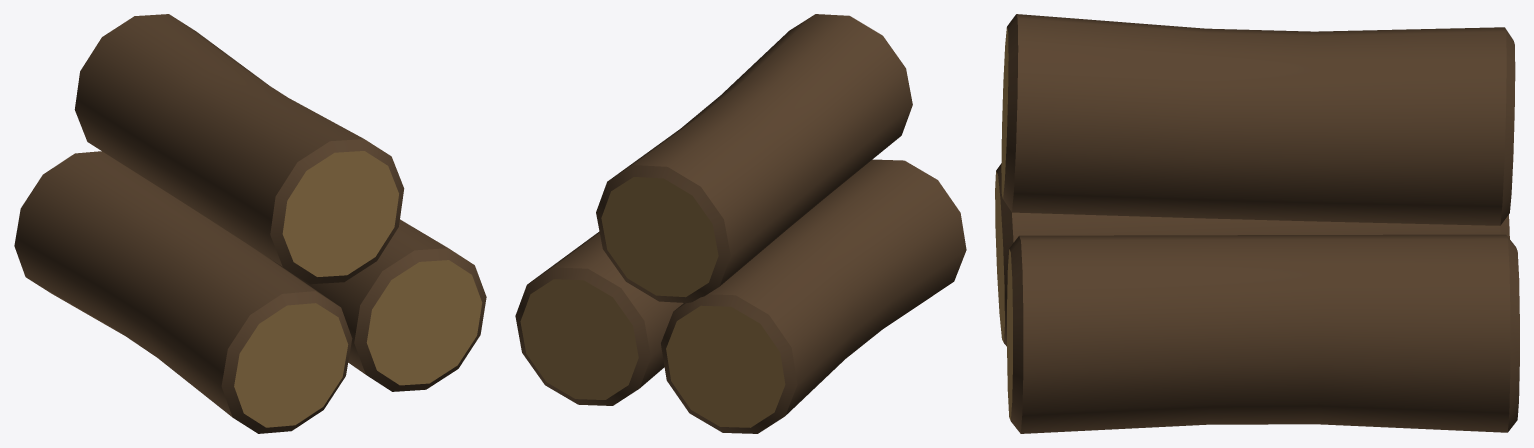
The model's file is wood-pile.glb.
3 views of the same model, side by side, from view 1: azimuth 30°, elevation 25°; view 2: azimuth 150°, elevation 25°; view 3: azimuth 270°, elevation 25° (orthographic). The views are drawn at different scales.
Visible parts, largest first — view 1: UI_Wood; view 2: UI_Wood; view 3: UI_Wood.
Boxes of the visible parts, <box> form: UI_Wood: <box>14,14,486,433</box>; UI_Wood: <box>515,14,966,433</box>; UI_Wood: <box>995,14,1519,433</box>.
Size of the model in its own units: 0.3762 by 0.3451 by 0.4591.
1 material, 1 textured.
